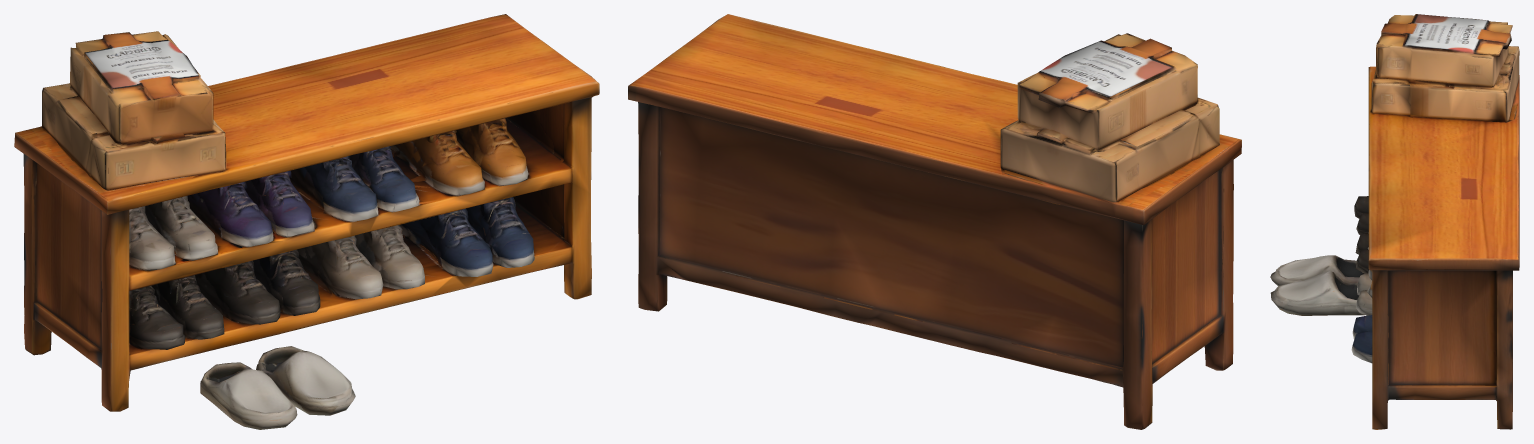
The model's file is Meshy_AI_ayakkabılık_0108002510_texture.fbx.
The picture shows the model from 3 angles, left to right: view 1: azimuth 30°, elevation 25°; view 2: azimuth 150°, elevation 25°; view 3: azimuth 270°, elevation 25°; orthographic projection. The views are drawn at different scales.
Visible parts, largest first — view 1: Mesh_0; view 2: Mesh_0; view 3: Mesh_0.
Boxes of the visible parts, box(x1,y1,x2,y2) form: Mesh_0: box(14, 14, 599, 429); Mesh_0: box(628, 14, 1241, 429); Mesh_0: box(1270, 14, 1519, 429).
Bounding box in the file's own units: 191 × 112 × 104.
1 material, 1 textured.
